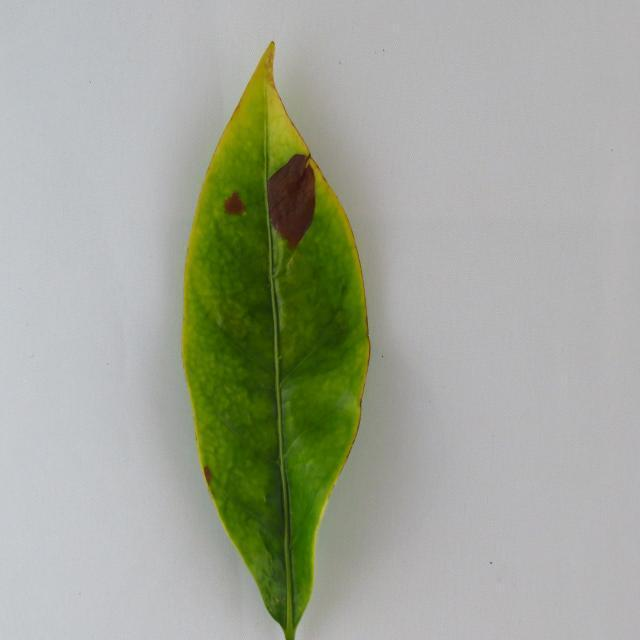DeficienciaNutricional-Nitrogeno: (186, 46, 366, 639)
